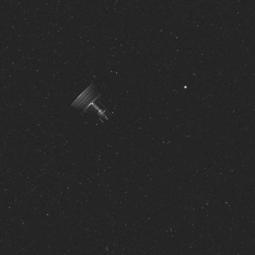debris: (67, 75, 119, 131)
